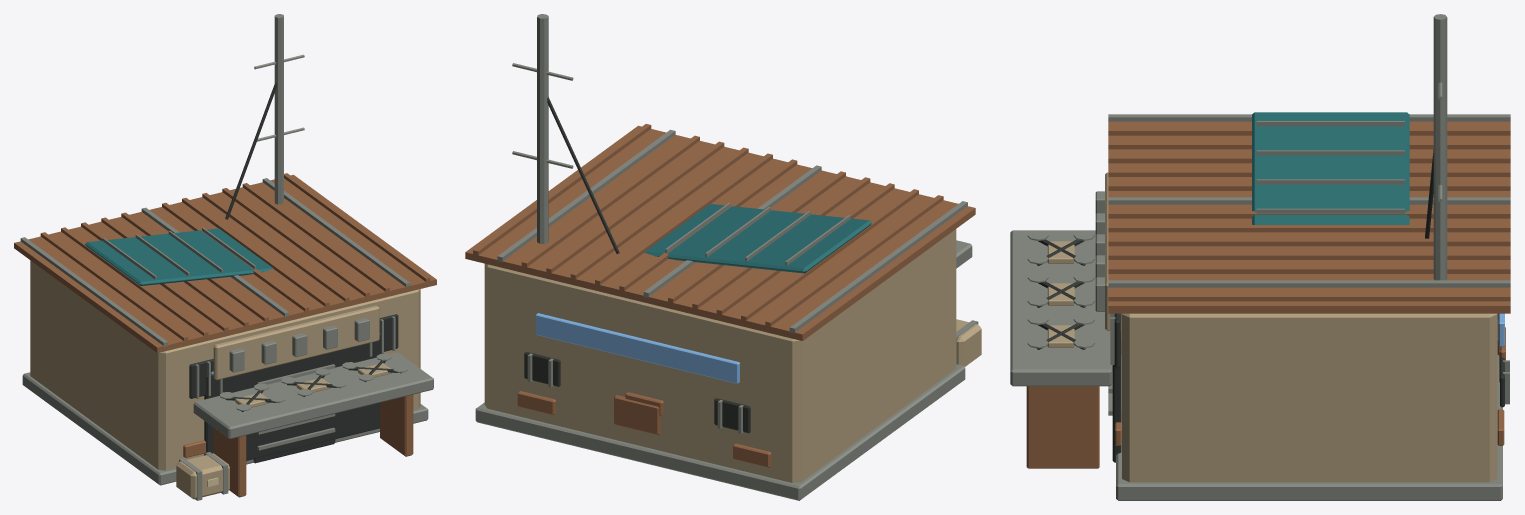
The model's file is drone_workshop.glb.
3 views of the same model, side by side, from view 1: azimuth 30°, elevation 25°; view 2: azimuth 150°, elevation 25°; view 3: azimuth 270°, elevation 25° (orthographic). The views are drawn at different scales.
Parts seen in each view (by area): view 1: drone_workshop; view 2: drone_workshop; view 3: drone_workshop.
Boxes of the visible parts, bbox=[...] form: drone_workshop: bbox=[14, 14, 436, 500]; drone_workshop: bbox=[465, 14, 981, 500]; drone_workshop: bbox=[1010, 14, 1510, 500].
Size of the model in its own units: 2.4 by 2.7 by 2.65.
